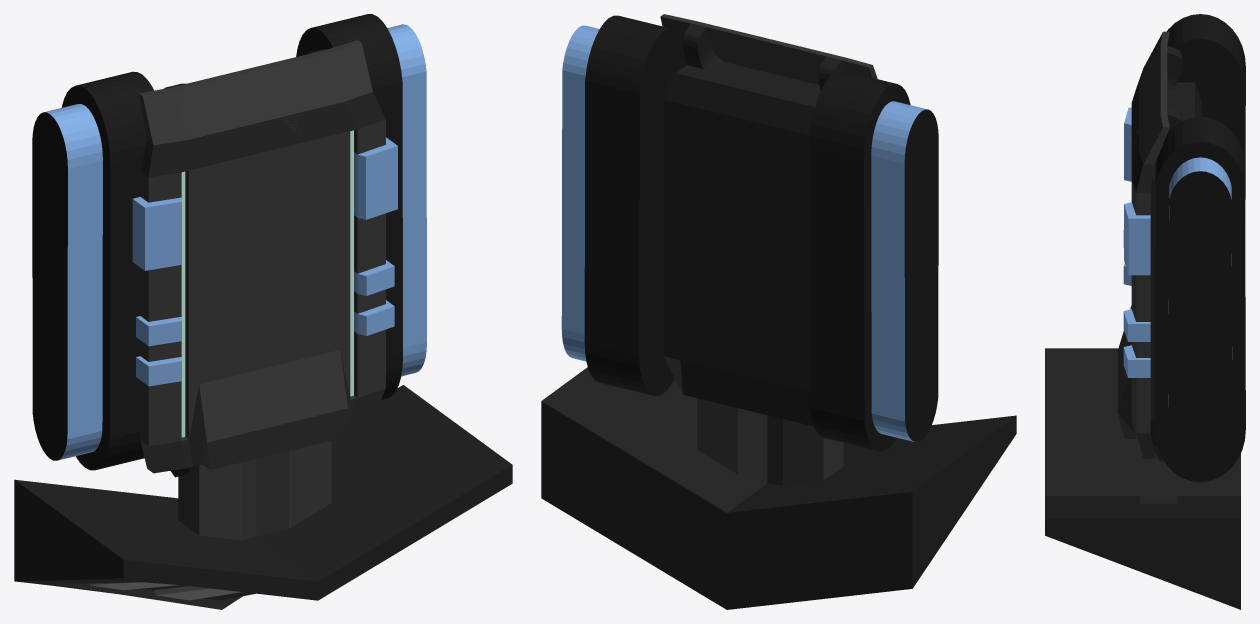
The model's file is bottomV3.fbx.
3 renders of one model, left to right at view 1: azimuth 30°, elevation 25°; view 2: azimuth 150°, elevation 25°; view 3: azimuth 270°, elevation 25°, orthographic. The views are drawn at different scales.
Visible parts, largest first — view 1: Cube; view 2: Cube; view 3: Cube.
Boxes of the visible parts, bbox=[...] form: Cube: bbox=[14, 14, 512, 609]; Cube: bbox=[541, 14, 1016, 609]; Cube: bbox=[1045, 14, 1245, 609].
Size of the model in its own units: 428 by 598 by 213.
